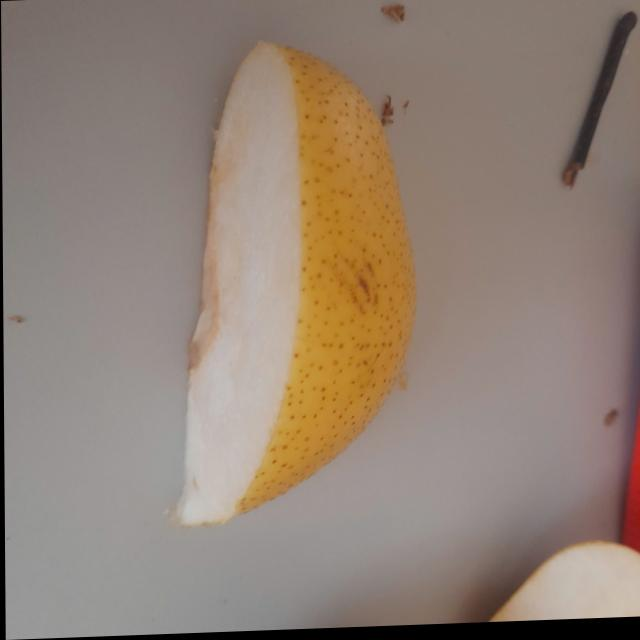Le: (159, 34, 434, 537)
